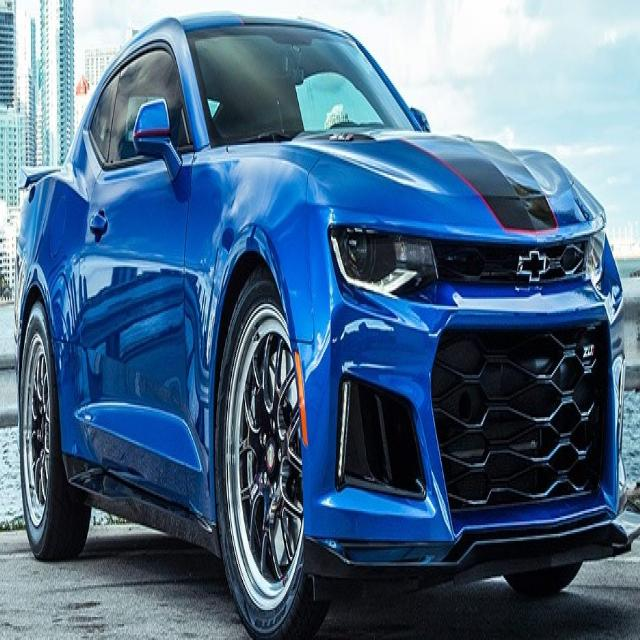blue: (13, 5, 628, 634)
